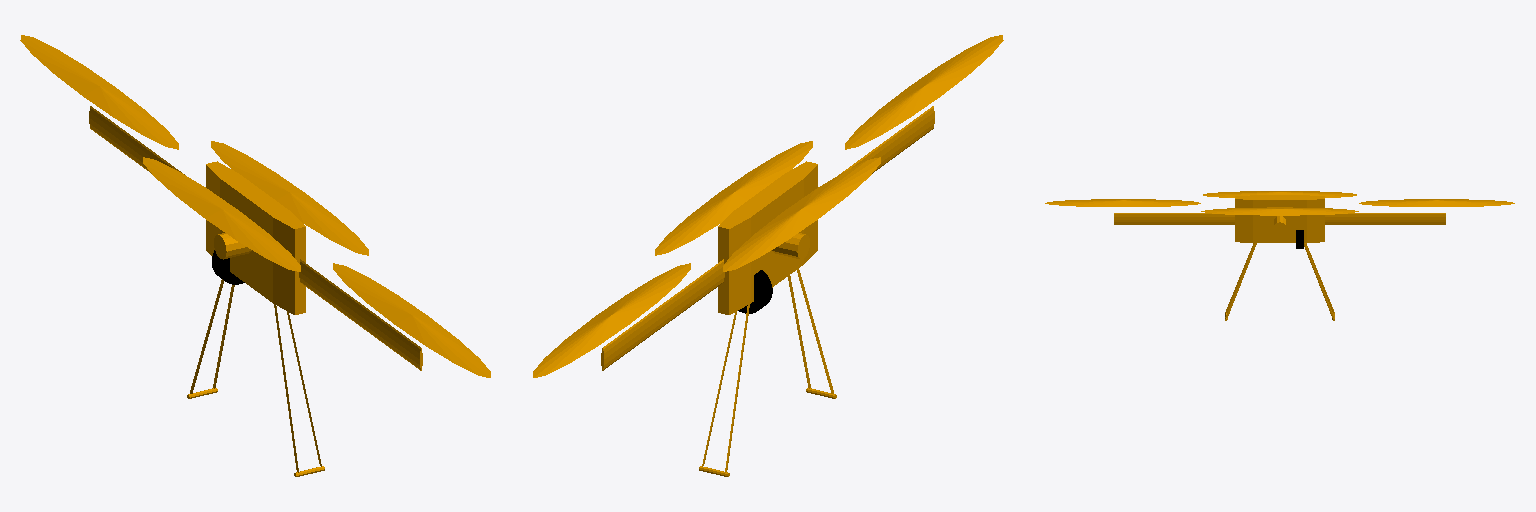
URDF robot description (quadrotor):
<?xml version="1.0" ?>

<!-- adapted from [author], [author], [author], "Trajectory Generation and Control for Precise Aggressive Maneuvers with Quadrotors" -->

<robot xmlns="http://drake.mit.edu"
 xmlns:xsi="http://www.w3.org/2001/XMLSchema-instance"
 xsi:schemaLocation="http://drake.mit.edu ../../../../pods/drake/doc/drakeURDF.xsd" name="quadrotor">
  <link name="base_link">
    <inertial>
      <mass value="0.5"/>
      <origin xyz="0 0 0"/>
      <inertia ixx="0.0023" ixy="0.0" ixz="0.0" iyy="0.0023" iyz="0.0" izz="0.004"/>
    </inertial>
    <visual>
      <origin rpy="0 0 0" xyz="0 0 0"/>
      <geometry>
        <mesh filename="quadrotor_base.obj" scale="0.025 0.2 0.2"/>
      </geometry>
    </visual>
    <collision>
      <origin rpy="0 0 0" xyz="0 0 0"/>
      <geometry>
        <mesh filename="quadrotor_base.obj" scale="0.025 0.2 0.2"/>
      </geometry>
    </collision>



  </link>


  <link name="eyes">
  <visual>
  <origin xyz="0 0 0" rpy="0 1.5708 0" />
  <geometry>
         <cylinder radius="0.03" length="0.02"/>
  </geometry>
  <material name="Black">
    <color rgba="0 0 0 1.0"/>
  </material>
  </visual>

    <inertial>
      <mass value="0"/>
      <origin xyz="0 0 0"/>
      <inertia ixx="0" ixy="0" ixz="0" iyy="0" iyz="0" izz="0"/>
    </inertial>

  </link>

  <joint name="eyes_joint" type="fixed">
    <!-- camera is located at front bar -->
    <origin rpy="1.57 0 -1.57" xyz="0 0.05 -0.05"/>
    <parent link="base_link"/>
    <child link="eyes"/>
  </joint>


  <frame link="base_link" name="body" rpy="0 0 0" xyz="0 0 0" />
  <force_element name="prop1">
    <propellor lower_limit="0" upper_limit="10" scale_factor_thrust="1.0" scale_factor_moment="0.0245">
      <parent link="base_link"/>
      <origin xyz=".1750 0 0"/>
      <axis xyz="0 0 1"/>
    </propellor>
  </force_element>

  <force_element name="prop2">
    <propellor lower_limit="0" upper_limit="10" scale_factor_thrust="1.0" scale_factor_moment="-0.0245">
      <parent link="base_link"/>
      <origin xyz="0 .1750 0 "/>
      <axis xyz="0 0 1"/>
    </propellor>
  </force_element>
  
  <force_element name="prop3">
    <propellor lower_limit="0" upper_limit="10" scale_factor_thrust="1.0" scale_factor_moment="0.0245">
      <parent link="base_link"/>
      <origin xyz="-.1750 0 0"/>
      <axis xyz="0 0 1"/>
    </propellor>
  </force_element>
  
  <force_element name="prop4">
    <propellor lower_limit="0" upper_limit="10" scale_factor_thrust="1.0" scale_factor_moment="-0.0245">
      <parent link="base_link"/>
      <origin xyz="0 -.1750 0"/>
      <axis xyz="0 0 1"/>
    </propellor>
  </force_element>
  
</robot>

--- Facts derived from the render (not from the file) ---
The picture shows the robot from 3 angles, left to right: view 1: azimuth 30°, elevation 25°; view 2: azimuth 150°, elevation 25°; view 3: azimuth 270°, elevation 25°; orthographic projection.
Robot: quadrotor — 2 links, 1 joints (1 fixed); root link base_link; default pose: all joints at 0.
Links seen in each view (by area): view 1: base_link; view 2: base_link, eyes; view 3: base_link.
Boxes of the visible links, bbox=[...] form: base_link: bbox=[20, 35, 490, 476]; base_link: bbox=[533, 35, 1003, 476]; eyes: bbox=[738, 270, 772, 313]; base_link: bbox=[1045, 191, 1514, 320].
Size in the robot's own frame: 0.1481 by 1.18 by 0.3331 metres.
Meshes: 1 distinct files referenced, 1 mesh visuals loaded (1 OBJ).
